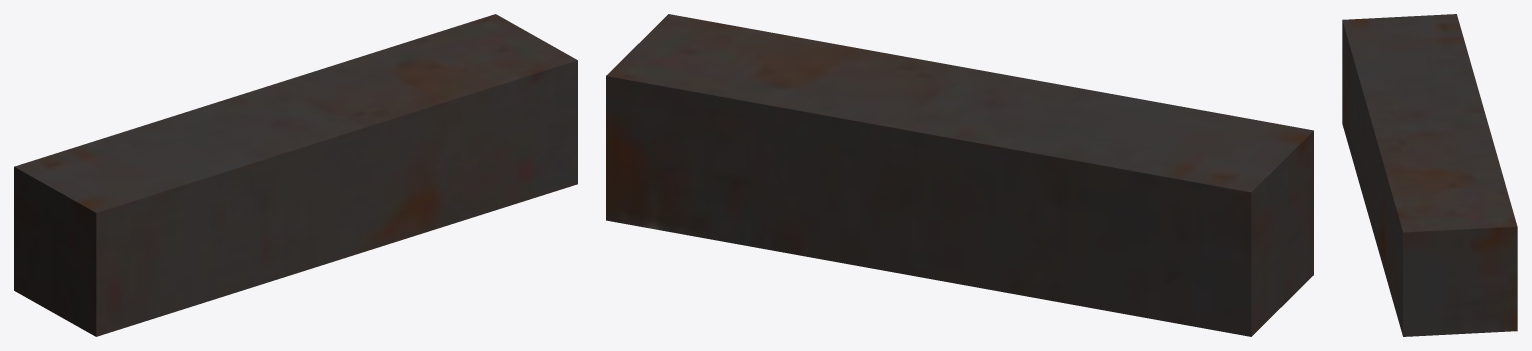
The model's file is frame__rear_brace_1.glb.
3 renders of one model, left to right at view 1: azimuth 30°, elevation 25°; view 2: azimuth 150°, elevation 25°; view 3: azimuth 270°, elevation 25°, orthographic. The views are drawn at different scales.
Visible parts, largest first — view 1: geometry_0; view 2: geometry_0; view 3: geometry_0.
Boxes of the visible parts, x1,y1,x2,y2 form: geometry_0: (14,14,577,336); geometry_0: (606,14,1313,336); geometry_0: (1342,14,1517,336).
Bounding box in the file's own units: 0.2244 × 0.05 × 0.076.
1 material, 1 textured.
